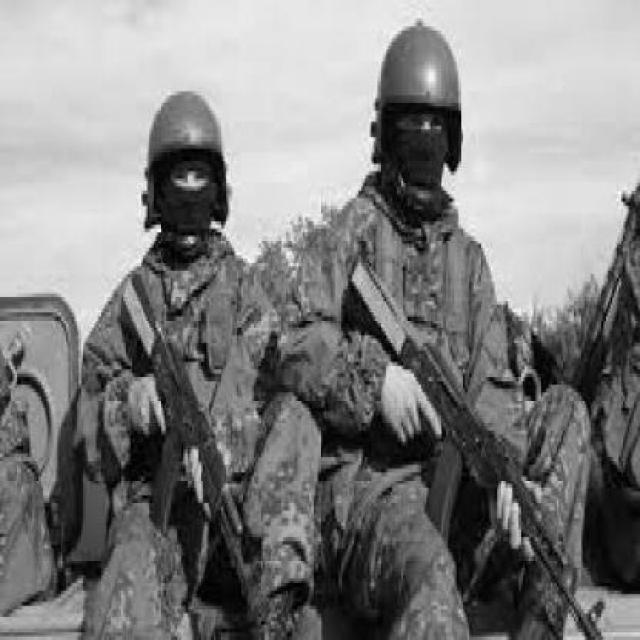Person: (272, 16, 592, 638), (70, 86, 321, 637)
